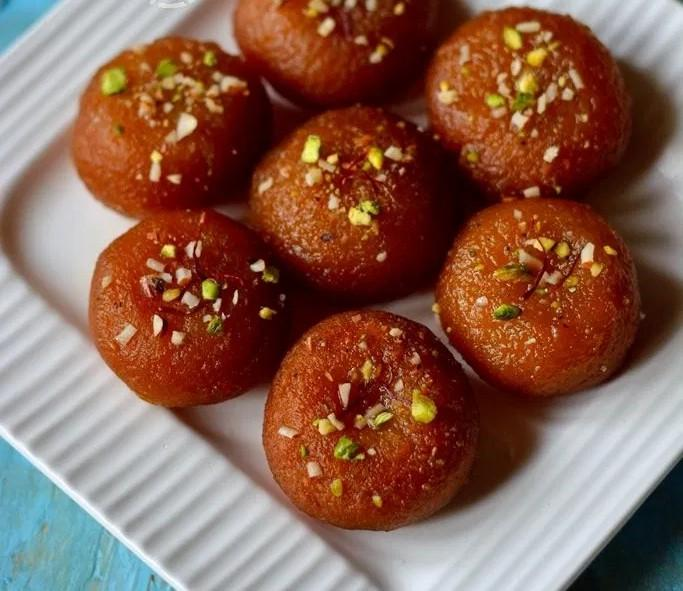GulabJamun: (262, 308, 479, 530), (435, 199, 642, 396), (425, 6, 633, 195), (252, 106, 457, 296), (91, 213, 286, 407), (74, 37, 277, 219), (231, 0, 459, 107)
